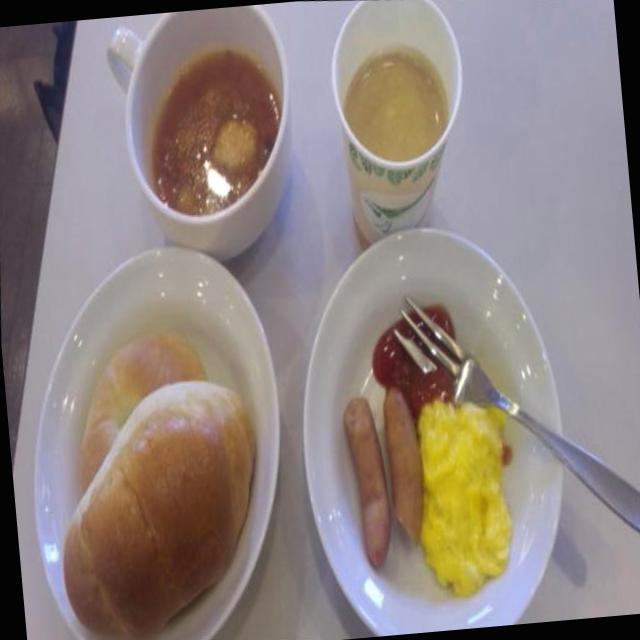Sausage: (328, 374, 412, 582)
